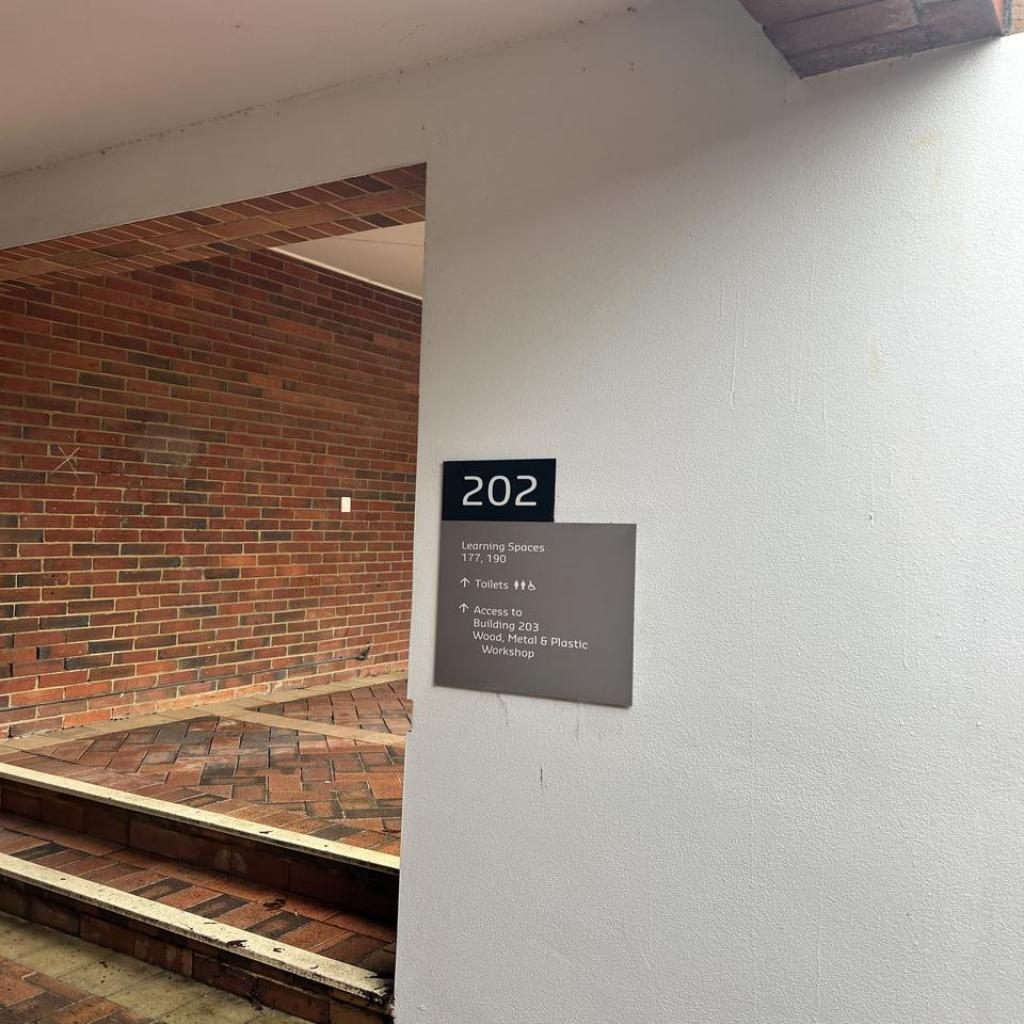BuildingCodes: (460, 471, 542, 511)
